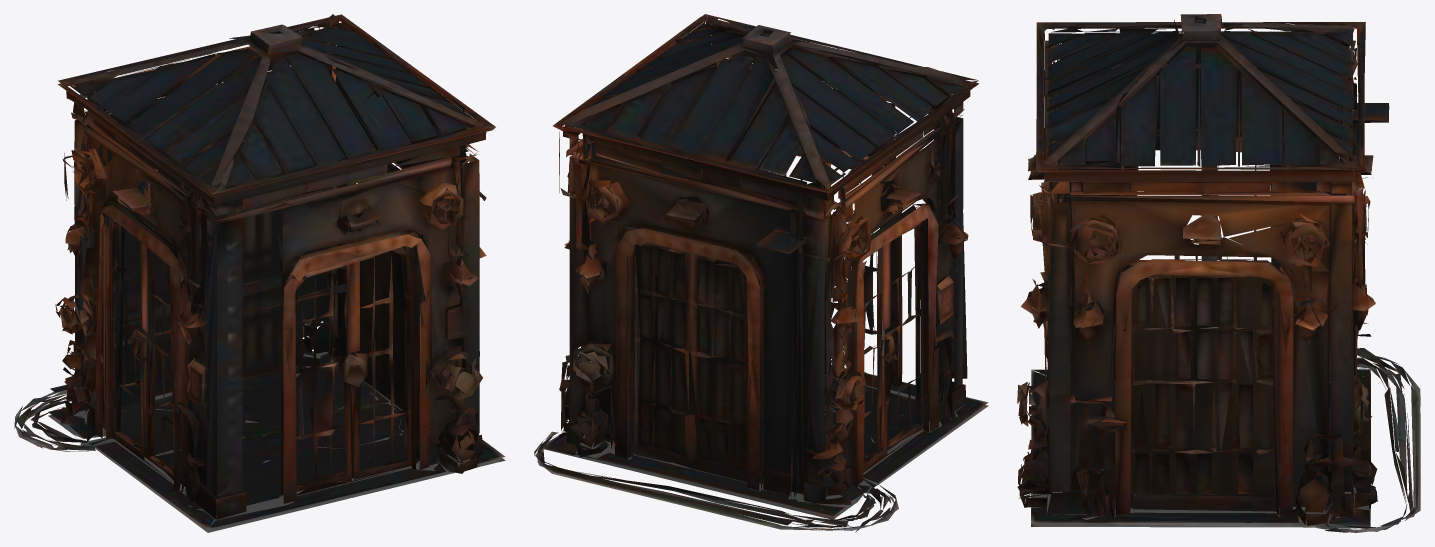
File: cage.glb
3 views of the same model, side by side, from view 1: azimuth 30°, elevation 25°; view 2: azimuth 150°, elevation 25°; view 3: azimuth 270°, elevation 25° (orthographic). The views are drawn at different scales.
Visible parts, largest first — view 1: Mesh_0; view 2: Mesh_0; view 3: Mesh_0.
Boxes of the visible parts, x1,y1,x2,y2 form: Mesh_0: (14, 14, 505, 532); Mesh_0: (534, 14, 988, 532); Mesh_0: (1017, 14, 1420, 532).
Size of the model in its own units: 0.6954 by 0.7866 by 0.6555.
1 material, 1 textured.
